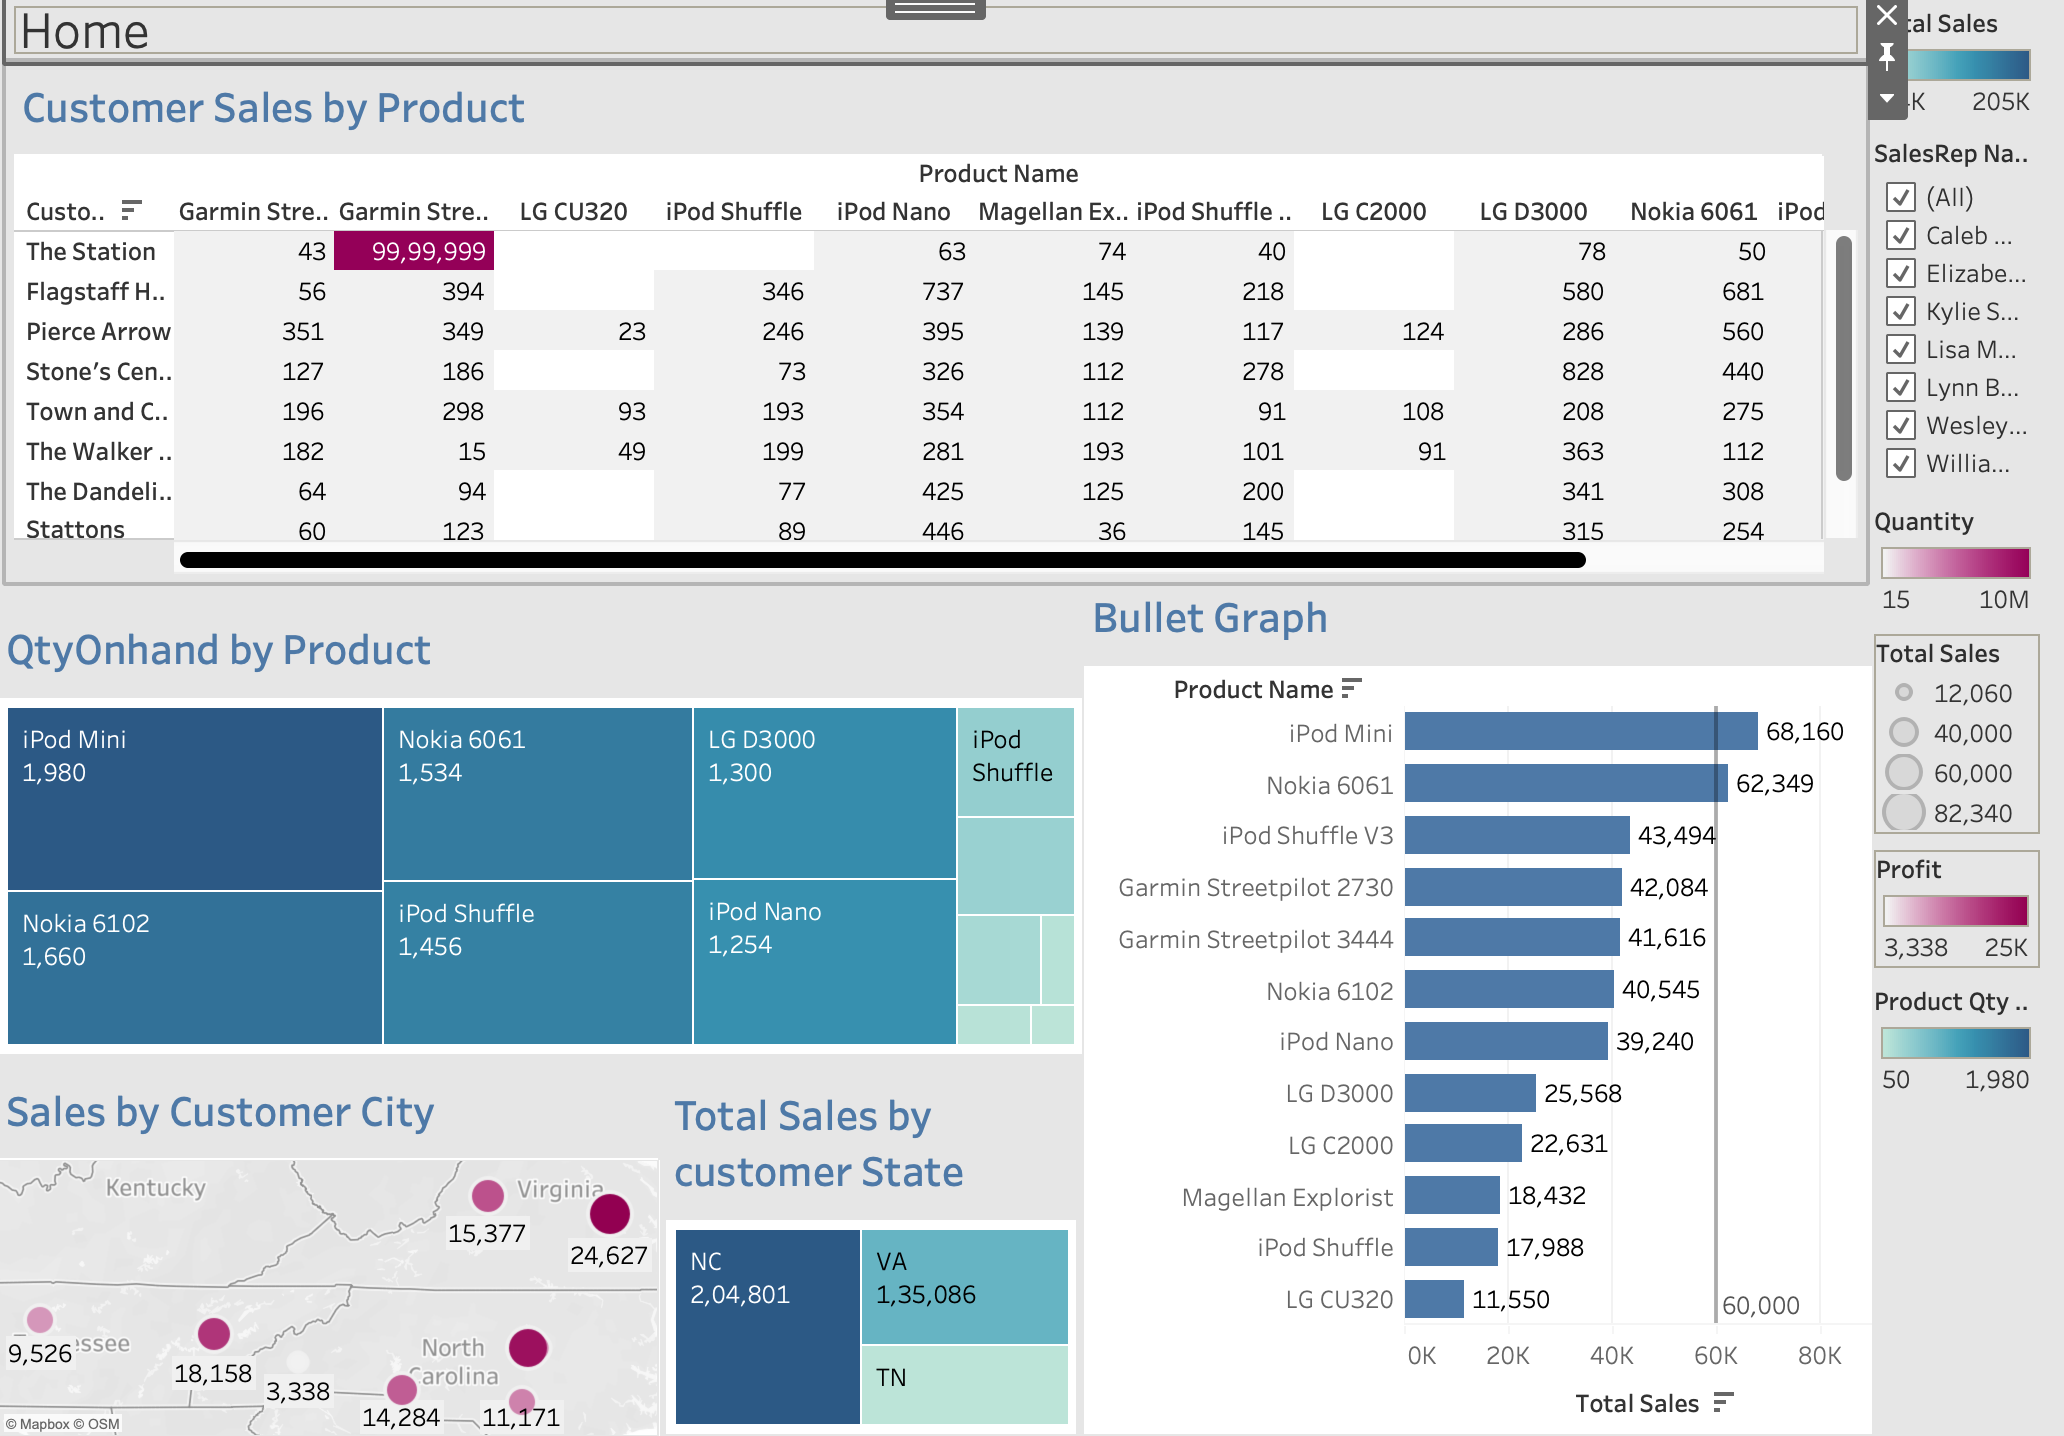

Layout of this report page (visuals, bound fields, positions):
{"tool":"tableau","page":{"name":"Home","canvas":[1000,1000],"units":"permille","ordinal":2},"visuals":[{"type":"title","box":[6.5,9.7,905.7,38.6]},{"type":"legend","title":"Total Sales by customer State","param":"[federated.1u3r69o1c07qm614hxcbr1li4h0q].[sum:Total Sales:qk]","box":[912.2,9.7,81.4,78.5]},{"type":"worksheet","title":"Customer Sales by Product","mark":"Square","rows":["Customer_Name"],"cols":["Product_Name"],"box":[6.5,48.3,905.7,351.4]},{"type":"filter","title":"Customer Sales by Product","param":"[federated.1u3r69o1c07qm614hxcbr1li4h0q].[none:SalesRep_Name:nk]","box":[912.2,88.2,81.4,222.2]},{"type":"legend","title":"Customer Sales by Product","param":"[federated.1u3r69o1c07qm614hxcbr1li4h0q].[sum:Quantity:qk]","box":[912.2,310.4,81.4,78.5]},{"type":"legend","title":"Sales by Customer City","param":"[federated.1u3r69o1c07qm614hxcbr1li4h0q].[sum:Total Sales:qk]","box":[912.2,388.9,81.4,130.4]},{"type":"worksheet","title":"Bullet Graph","mark":"Automatic","rows":["Product_Name"],"cols":["Total Sales"],"box":[527.8,409.4,380.3,584.5]},{"type":"worksheet","title":"QtyOnhand by Product","mark":"Automatic","box":[4,431.2,523,303.1]},{"type":"legend","title":"Sales by Customer City","param":"[federated.1u3r69o1c07qm614hxcbr1li4h0q].[sum:Profit:qk]","box":[912.2,519.3,81.4,80.9]},{"type":"legend","title":"QtyOnhand by Product","param":"[federated.1u3r69o1c07qm614hxcbr1li4h0q].[sum:Product_Qty_On_Hand:qk]","box":[912.2,600.2,81.4,78.5]},{"type":"worksheet","title":"Sales by Customer City","mark":"Automatic","box":[3.9,747.6,319.5,248.8]},{"type":"worksheet","title":"Total Sales by customer State","mark":"Automatic","box":[325.8,750,197.7,244]}]}

Visuals, with their boxes on the dashboard's canvas, which has no fixed pixel size, in thousandths of its width and height (x1, y1, x2, y2). These are canvas units, not pixel positions in the 2064x1436 screenshot, which may show the page scaled, cropped or inside an application window:
title: 6,10,912,48
"Total Sales by customer State" legend: 912,10,994,88
"Customer Sales by Product" worksheet (Square marks): 6,48,912,400
"Customer Sales by Product" filter: 912,88,994,310
"Customer Sales by Product" legend: 912,310,994,389
"Sales by Customer City" legend: 912,389,994,519
"Bullet Graph" worksheet: 528,409,908,994
"QtyOnhand by Product" worksheet: 4,431,527,734
"Sales by Customer City" legend: 912,519,994,600
"QtyOnhand by Product" legend: 912,600,994,679
"Sales by Customer City" worksheet: 4,748,323,996
"Total Sales by customer State" worksheet: 326,750,524,994
